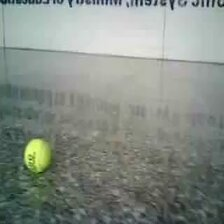tennis: (24, 139, 52, 173)
